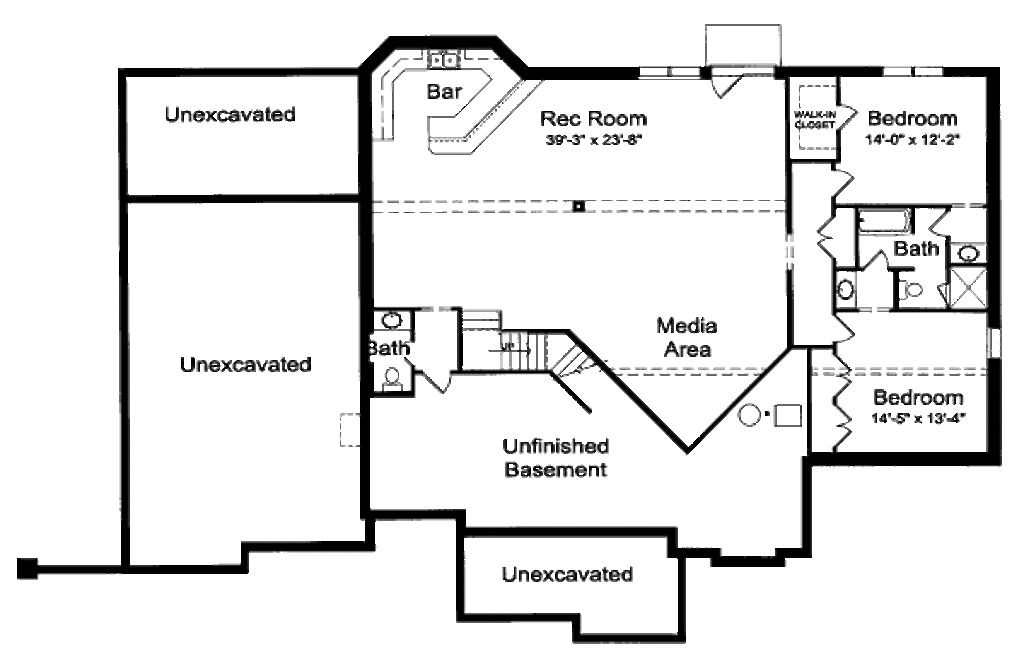door: (828, 347, 855, 403), (704, 71, 750, 100), (831, 402, 857, 453), (818, 211, 842, 263), (416, 363, 452, 395), (922, 206, 956, 239), (856, 245, 894, 274), (830, 164, 856, 200), (833, 103, 858, 135), (834, 310, 856, 345)
large_sink: (897, 277, 930, 309), (380, 363, 412, 388)
small_sink: (371, 309, 421, 337), (834, 270, 865, 315), (944, 239, 984, 265)
stairs: (459, 309, 612, 412)
tub: (853, 206, 915, 236)
twin_sink: (427, 48, 470, 79)
window: (880, 63, 947, 79), (645, 66, 701, 79), (984, 329, 1005, 362)
